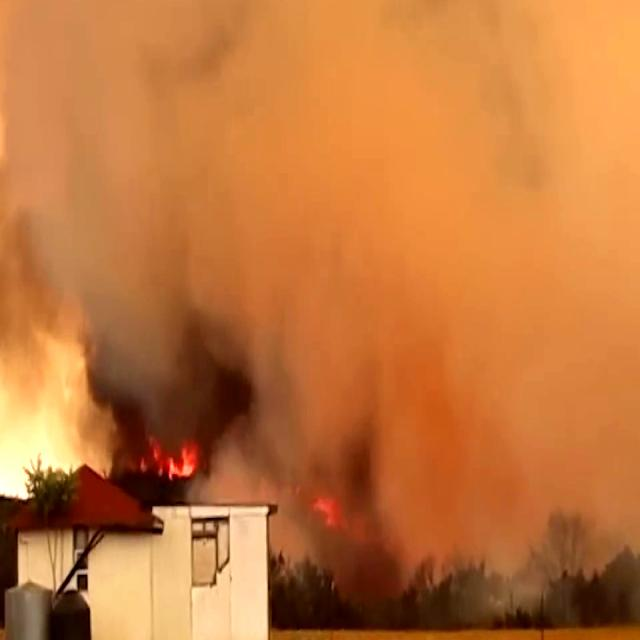fire: (135, 421, 210, 491)
smoke: (307, 0, 639, 360)
